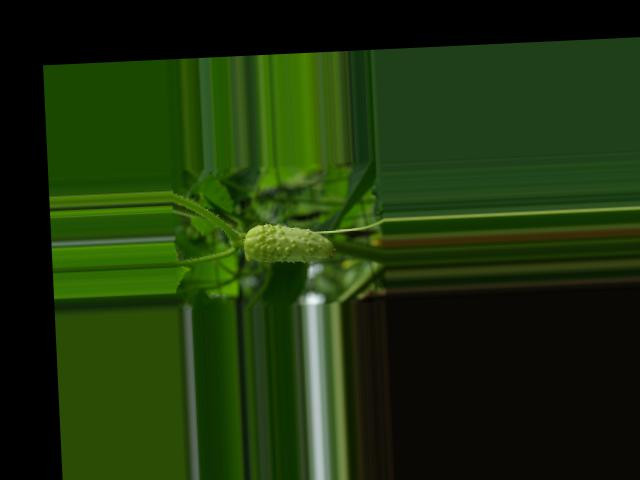cucumber: (242, 220, 337, 264)
